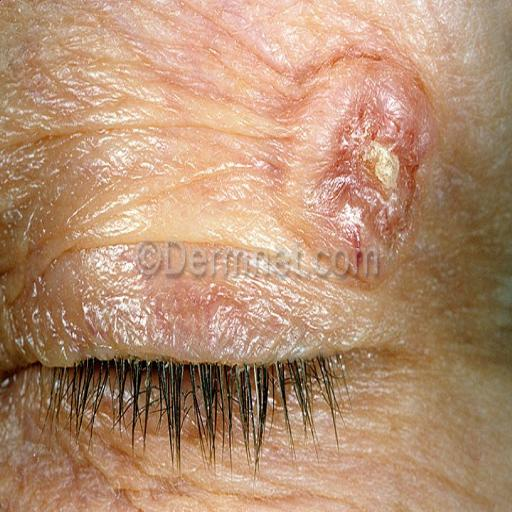Skin_Lesion: (294, 44, 434, 302)
